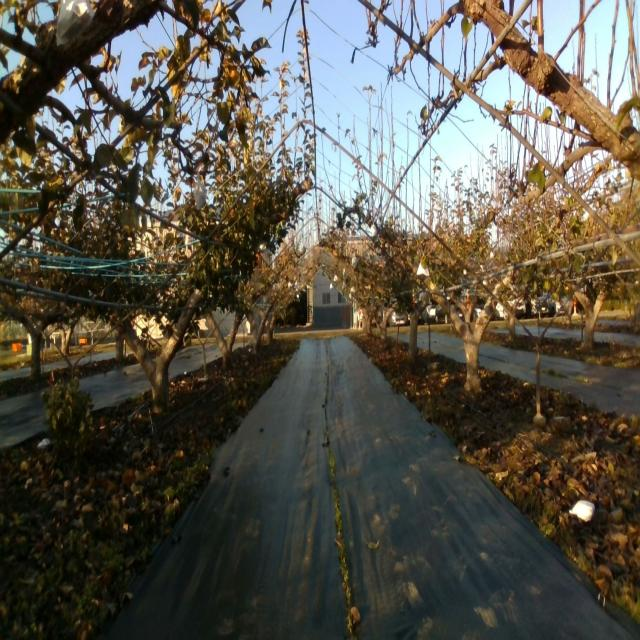pearbags: (55, 0, 95, 49), (193, 171, 207, 211)
